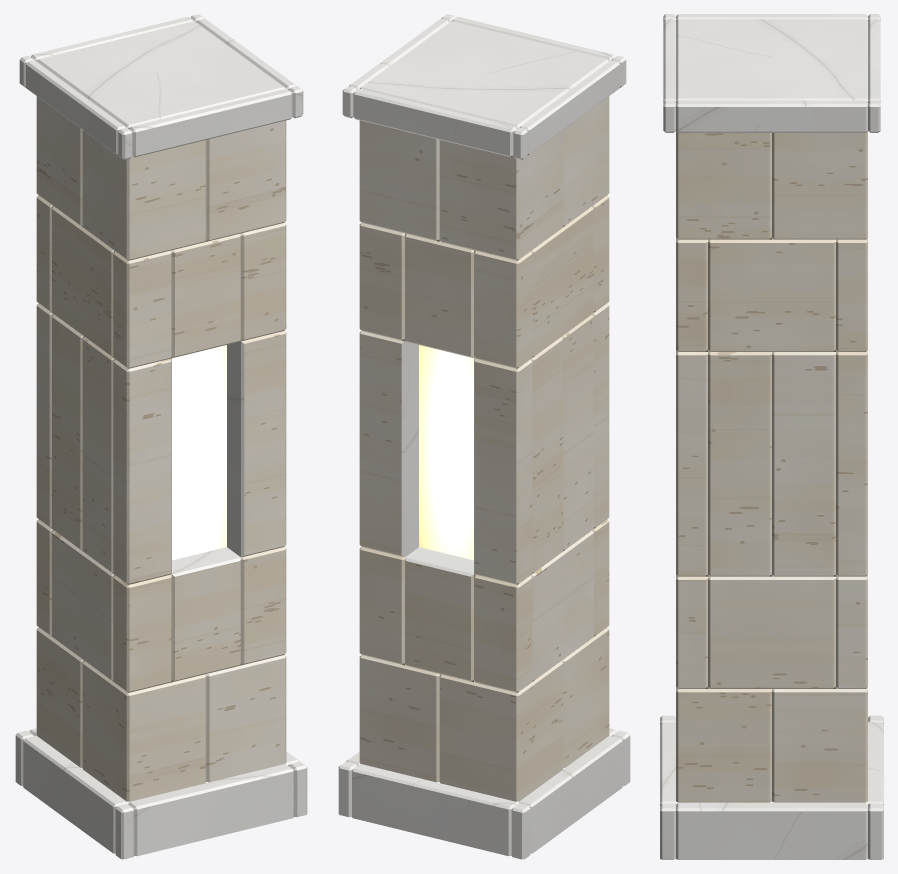
The picture shows the model from 3 angles, left to right: view 1: azimuth 30°, elevation 25°; view 2: azimuth 150°, elevation 25°; view 3: azimuth 270°, elevation 25°; orthographic projection. The views are drawn at different scales.
Parts seen in each view (by area): view 1: Mesh_arcade_pier_slot; view 2: Mesh_arcade_pier_slot; view 3: Mesh_arcade_pier_slot.
Boxes of the visible parts, box(x1,y1,x2,y2) form: Mesh_arcade_pier_slot: box(15, 14, 307, 859); Mesh_arcade_pier_slot: box(338, 14, 630, 859); Mesh_arcade_pier_slot: box(660, 14, 883, 859).
Size of the model in its own units: 1.4 by 5.2 by 1.4.
1 material, 1 textured.
